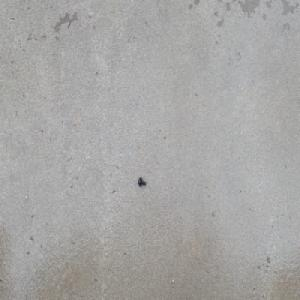BoltWasher: (137, 176, 147, 187)
